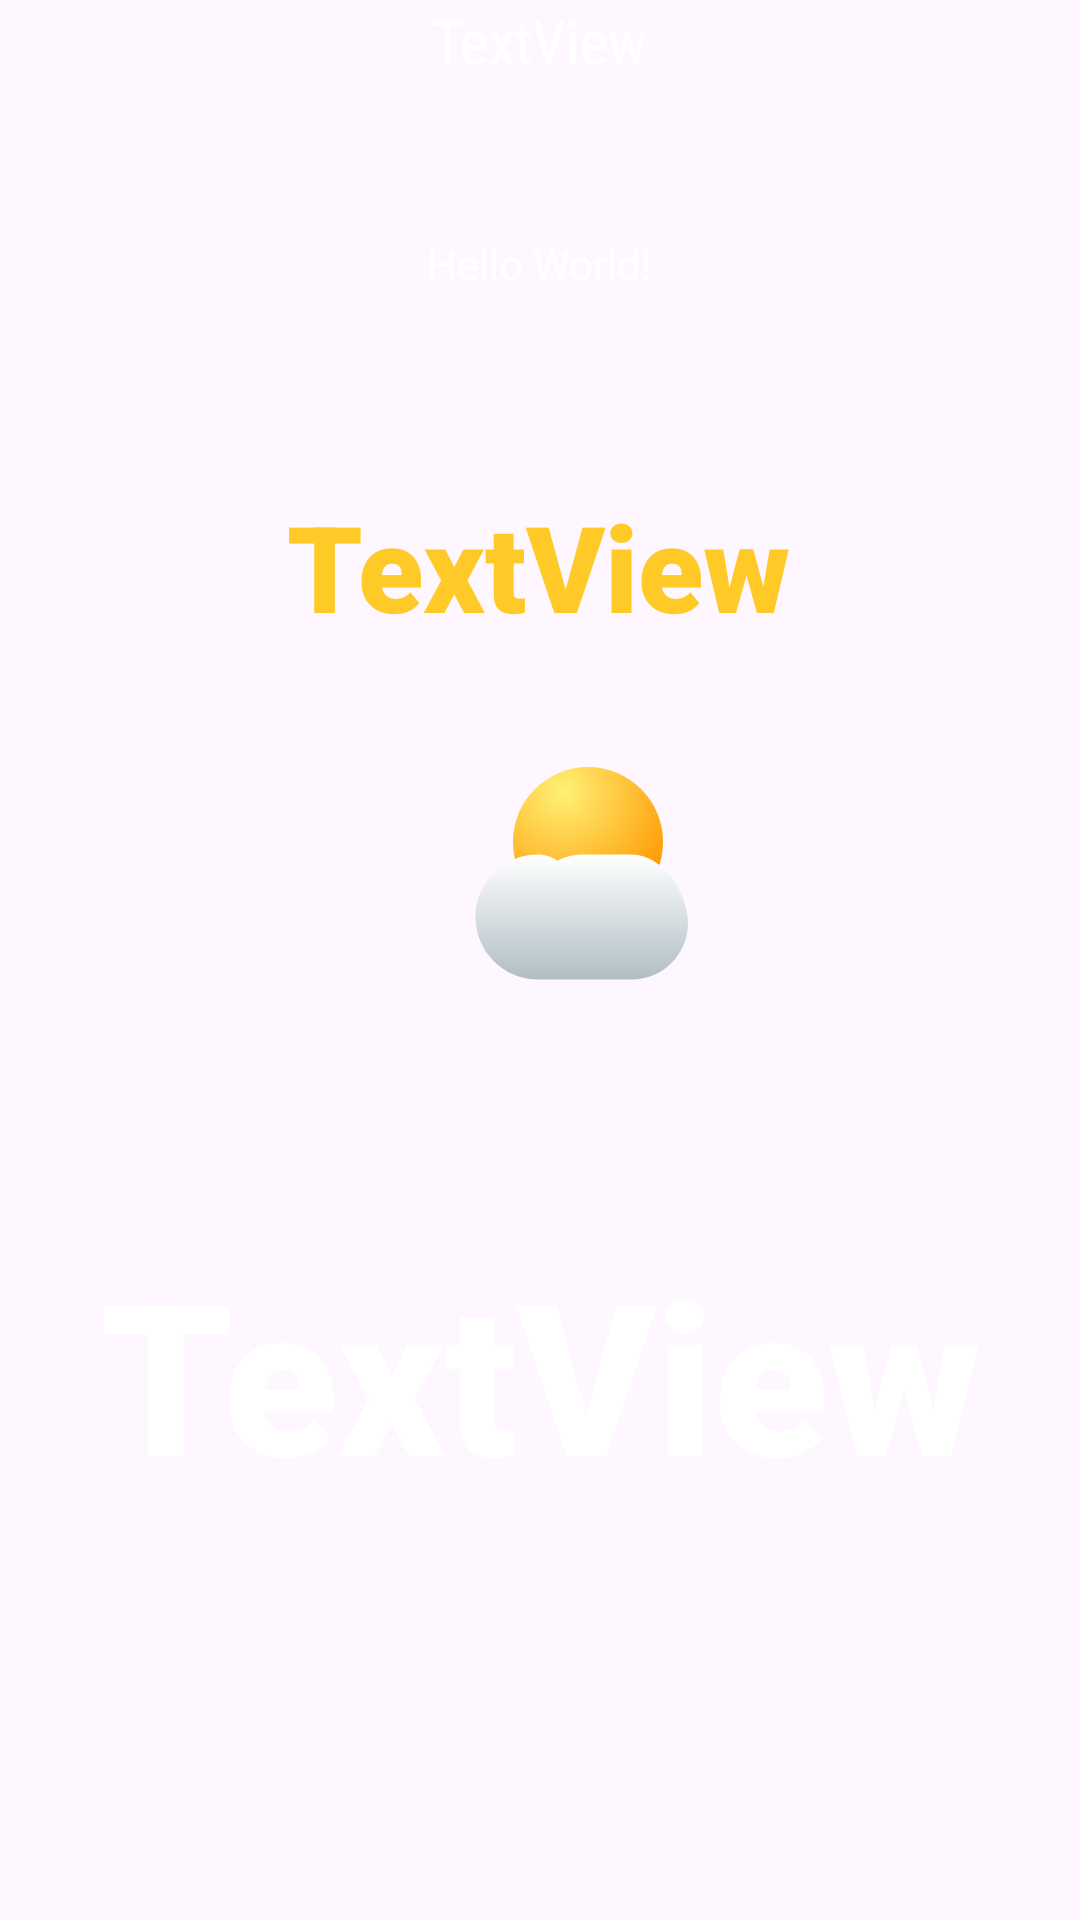

Icons on this 1080×1920 Android screen, each with the point to tap as (x=x, y=y):
cloudy: (x=582, y=873)
